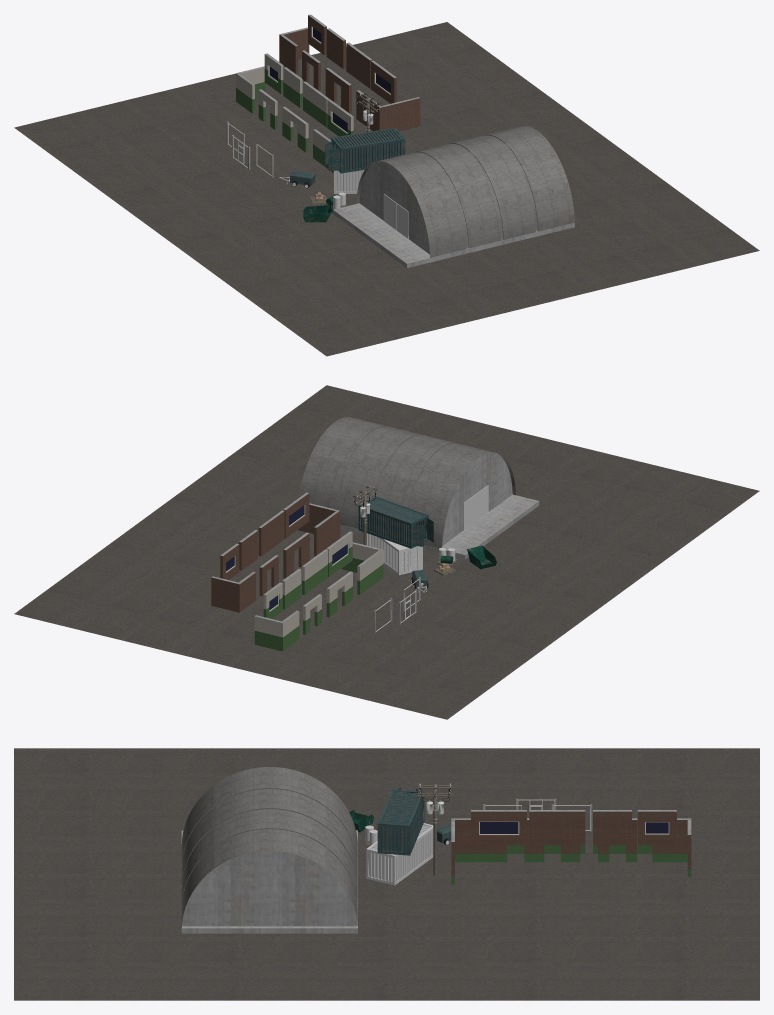
File: Industrial Area.fbx
3 renders of one model, top to bottom at view 1: azimuth 30°, elevation 25°; view 2: azimuth 150°, elevation 25°; view 3: azimuth 270°, elevation 25°, orthographic. The views are drawn at different scales.
Visible parts, largest first — view 1: MetalCabin, Floor.018, Floor.006, Floor, Floor.012, Floor.017, Floor.019, Floor.016, Floor.003, Floor.009, Floor.015, Floor.013 (+23 smaller); view 2: MetalCabin, Floor, Floor.017, Floor.015, Floor.018, Floor.016, Floor.019, Floor.009, Floor.003, Floor.013, Floor.014, Floor.010 (+24 smaller); view 3: MetalCabin, Floor.003, Floor.008, Floor.010, Floor.006, Floor.009, Floor.011, Floor.012, Floor.015, Floor.018, Floor.014, Floor (+20 smaller).
Boxes of the visible parts, x1=… form: MetalCabin: x1=333, y1=125, x2=574, y2=267; Floor.018: x1=264, y1=284, x2=434, y2=356; Floor.006: x1=481, y1=231, x2=651, y2=303; Floor: x1=14, y1=101, x2=184, y2=173; Floor.012: x1=589, y1=205, x2=759, y2=276; Floor.017: x1=202, y1=238, x2=371, y2=310; Floor.019: x1=77, y1=147, x2=246, y2=218; Floor.016: x1=139, y1=193, x2=309, y2=264; Floor.003: x1=373, y1=258, x2=542, y2=329; Floor.009: x1=402, y1=67, x2=571, y2=139; Floor.015: x1=346, y1=22, x2=509, y2=93; Floor.013: x1=122, y1=75, x2=282, y2=146; MetalCabin: x1=299, y1=417, x2=539, y2=559; Floor: x1=339, y1=647, x2=509, y2=719; Floor.017: x1=527, y1=510, x2=696, y2=582; Floor.015: x1=14, y1=568, x2=184, y2=640; Floor.018: x1=589, y1=464, x2=759, y2=536; Floor.016: x1=464, y1=556, x2=634, y2=627; Floor.019: x1=402, y1=602, x2=571, y2=673; Floor.009: x1=77, y1=522, x2=233, y2=594; Floor.003: x1=509, y1=438, x2=651, y2=509; Floor.013: x1=231, y1=622, x2=400, y2=693; Floor.014: x1=122, y1=595, x2=284, y2=666; Floor.010: x1=139, y1=477, x2=295, y2=545; MetalCabin: x1=181, y1=767, x2=357, y2=933; Floor.003: x1=14, y1=811, x2=163, y2=874; Floor.008: x1=461, y1=874, x2=610, y2=937; Floor.010: x1=312, y1=937, x2=461, y2=1000; Floor.006: x1=14, y1=874, x2=163, y2=937; Floor.009: x1=461, y1=937, x2=610, y2=1000; Floor.011: x1=163, y1=937, x2=312, y2=1000; Floor.012: x1=14, y1=937, x2=163, y2=1000; Floor.015: x1=610, y1=937, x2=759, y2=1000; Floor.018: x1=14, y1=748, x2=163, y2=811; Floor.014: x1=610, y1=874, x2=759, y2=937; Floor: x1=610, y1=748, x2=759, y2=811.
Bounding box in the file's own units: 4000 × 680 × 5000.
